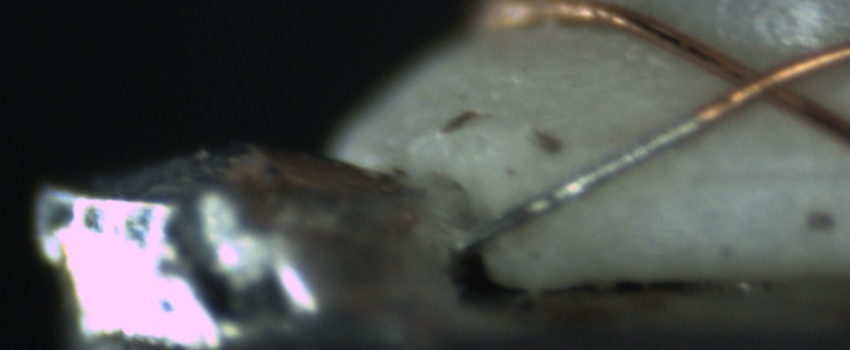CL: (710, 49, 809, 116)
DL: (653, 144, 850, 205)
TS: (459, 115, 703, 249)
